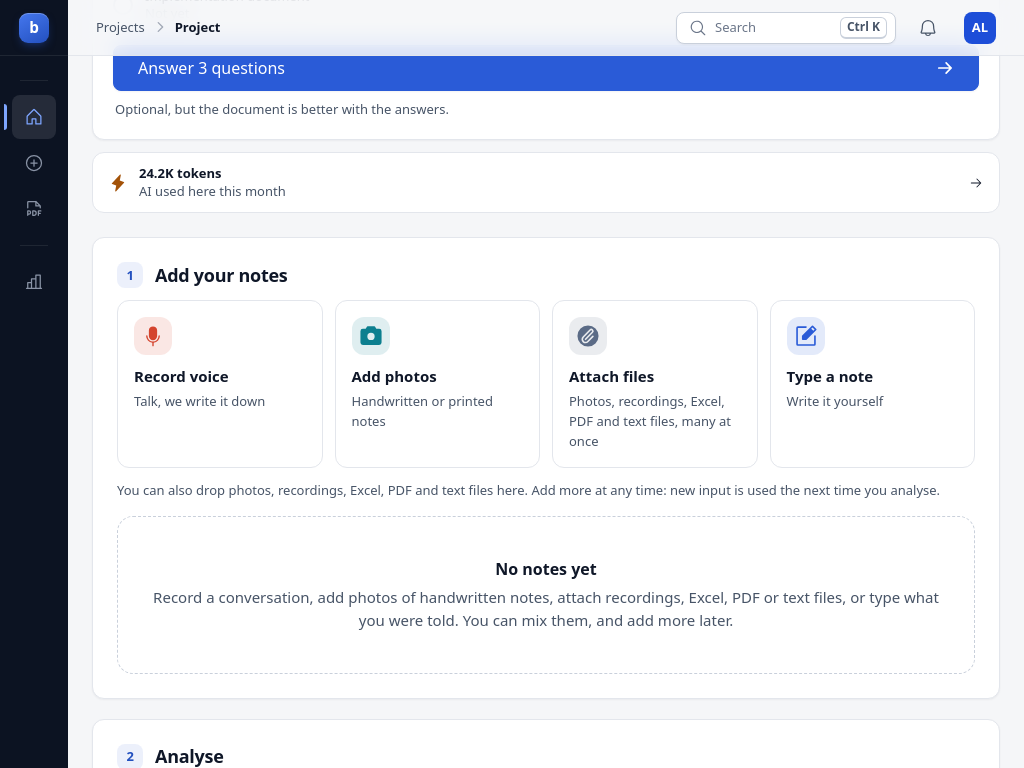
Test: the project page: notes › asks for a secure address when the page is not https
(page scrolled)
Click the button "Record voice Talk, we write it down" at coordinates (220, 384), box left=117, top=300, right=322, bottom=468
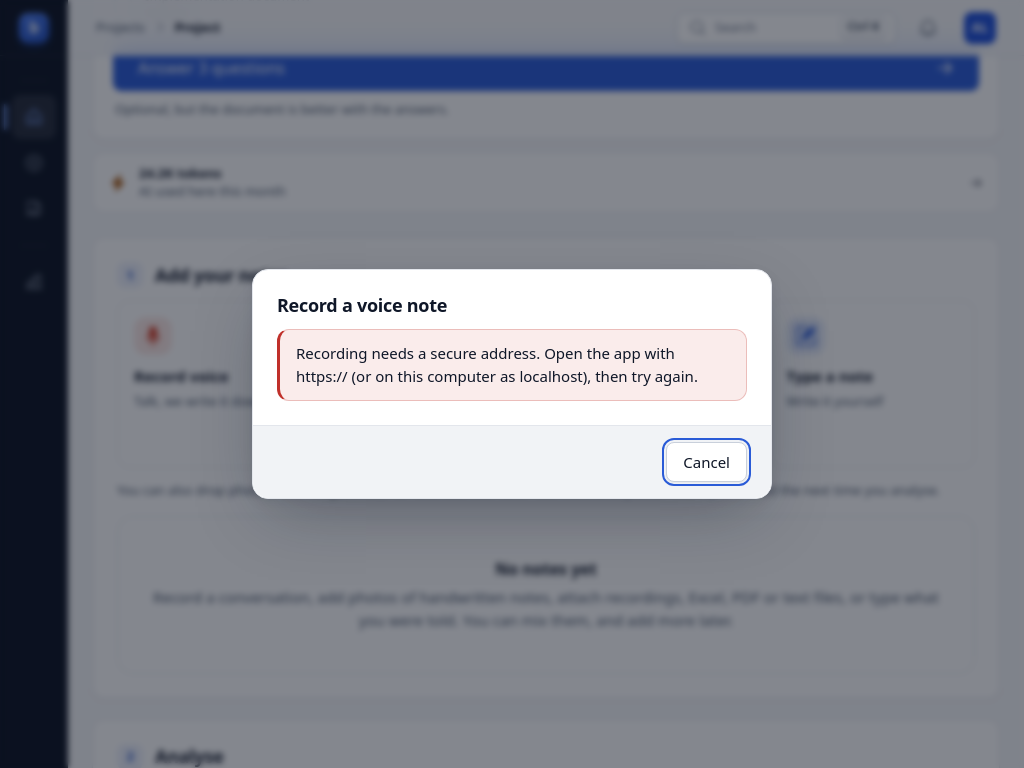
Expected: the message shows "Recording needs a secure address", left=296, top=342, right=698, bottom=386
